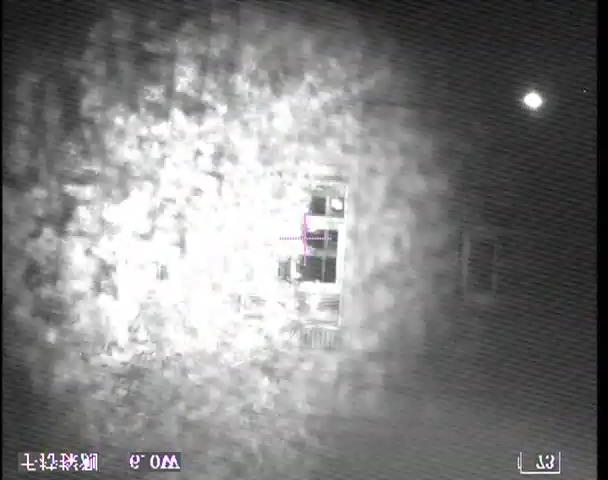my: (331, 197, 344, 214)
